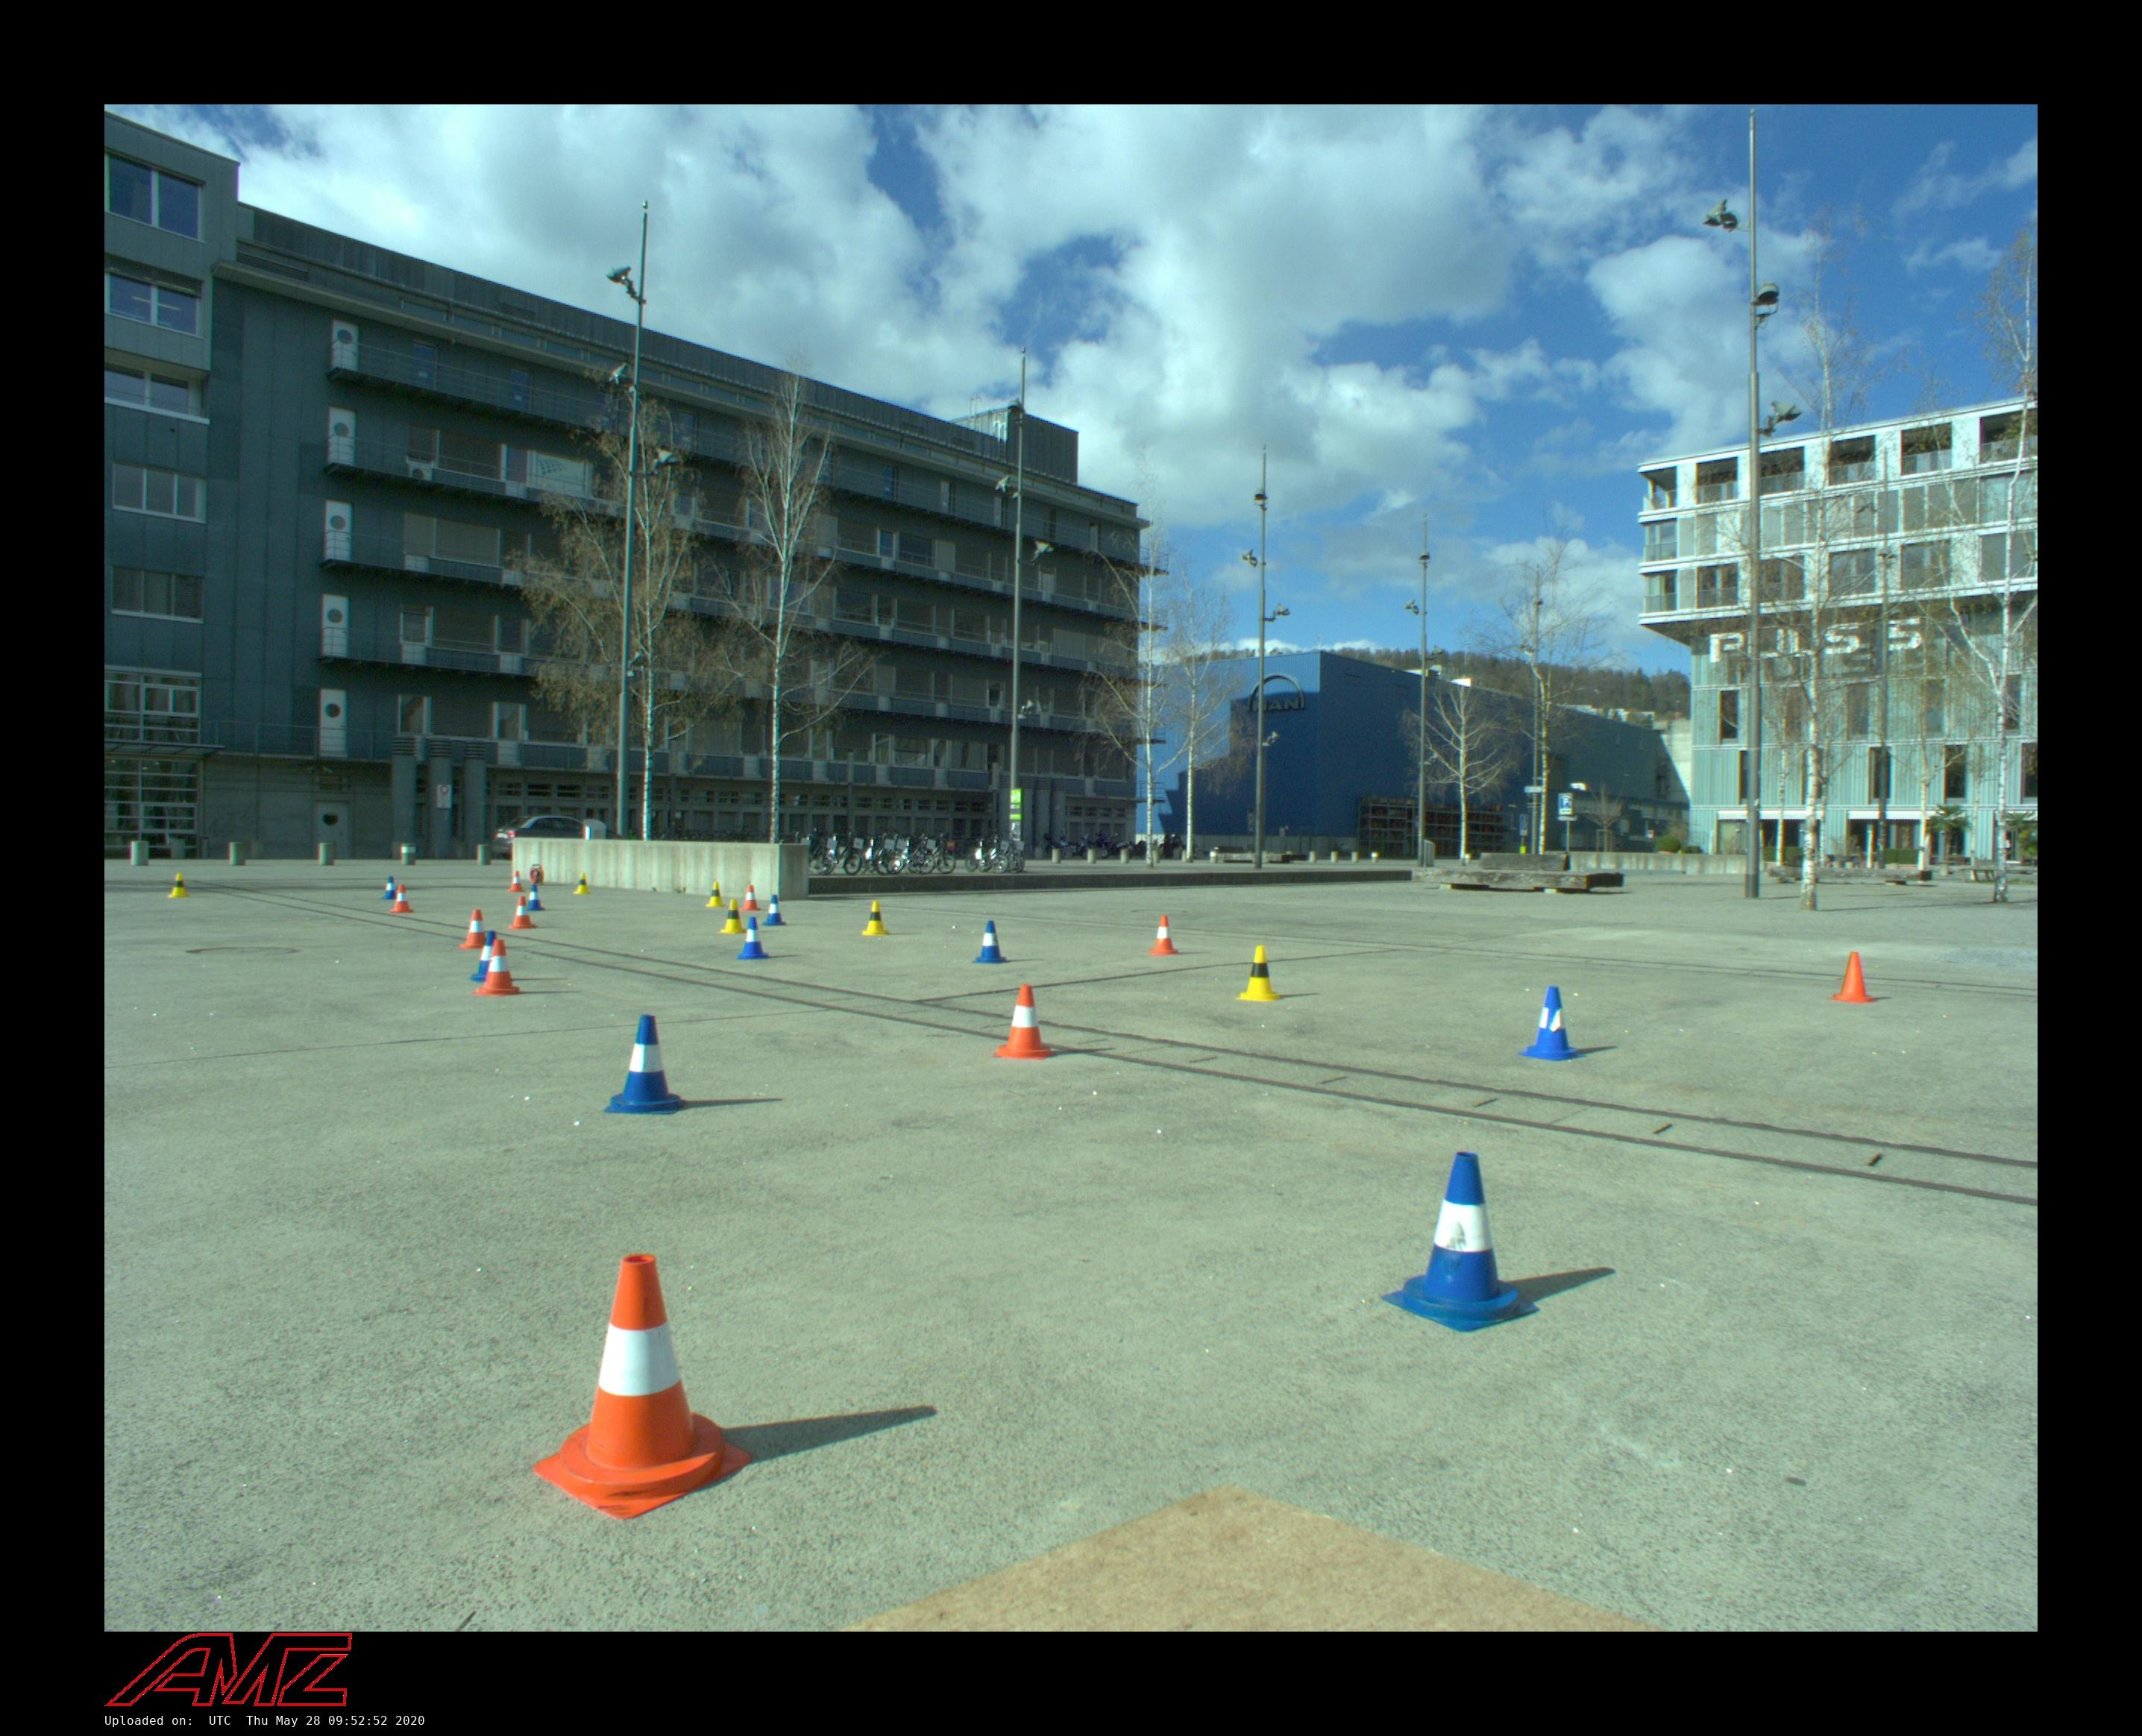blue_cone: (1378, 1150, 1538, 1334), (604, 1015, 687, 1116), (1518, 985, 1586, 1061), (468, 930, 496, 983), (974, 919, 1010, 962), (737, 916, 771, 960), (762, 895, 787, 925), (526, 882, 546, 911), (381, 875, 397, 900)
orange_cone: (530, 1249, 749, 1520), (992, 985, 1056, 1059), (471, 939, 521, 996), (1827, 951, 1878, 1004), (1150, 916, 1180, 955), (459, 909, 487, 949), (508, 896, 539, 930), (390, 884, 415, 912), (739, 884, 760, 911), (508, 870, 524, 891)
yellow_cone: (1237, 944, 1283, 1003), (718, 898, 748, 934), (863, 900, 889, 935), (168, 873, 190, 898), (707, 882, 726, 907), (572, 873, 592, 895)
